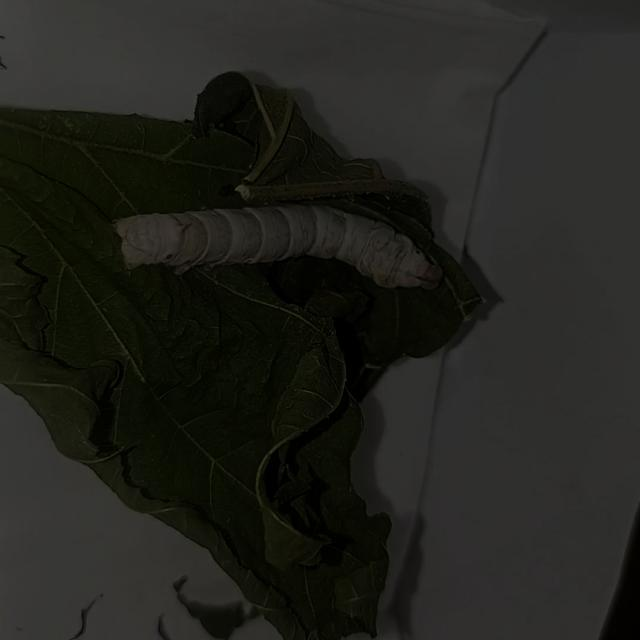Healthy: (98, 153, 484, 346)
